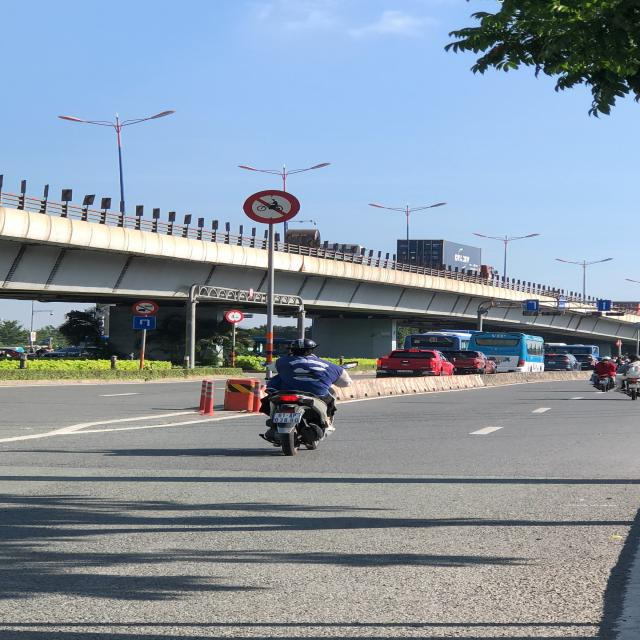Bien bao cam xe may: (240, 190, 306, 226)
